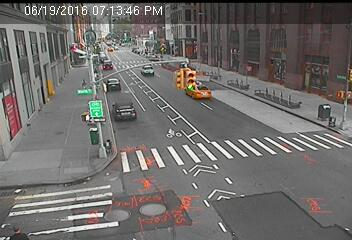neg: (269, 55, 289, 83), (318, 100, 334, 122), (98, 136, 113, 156)
pos: (10, 219, 24, 237)
